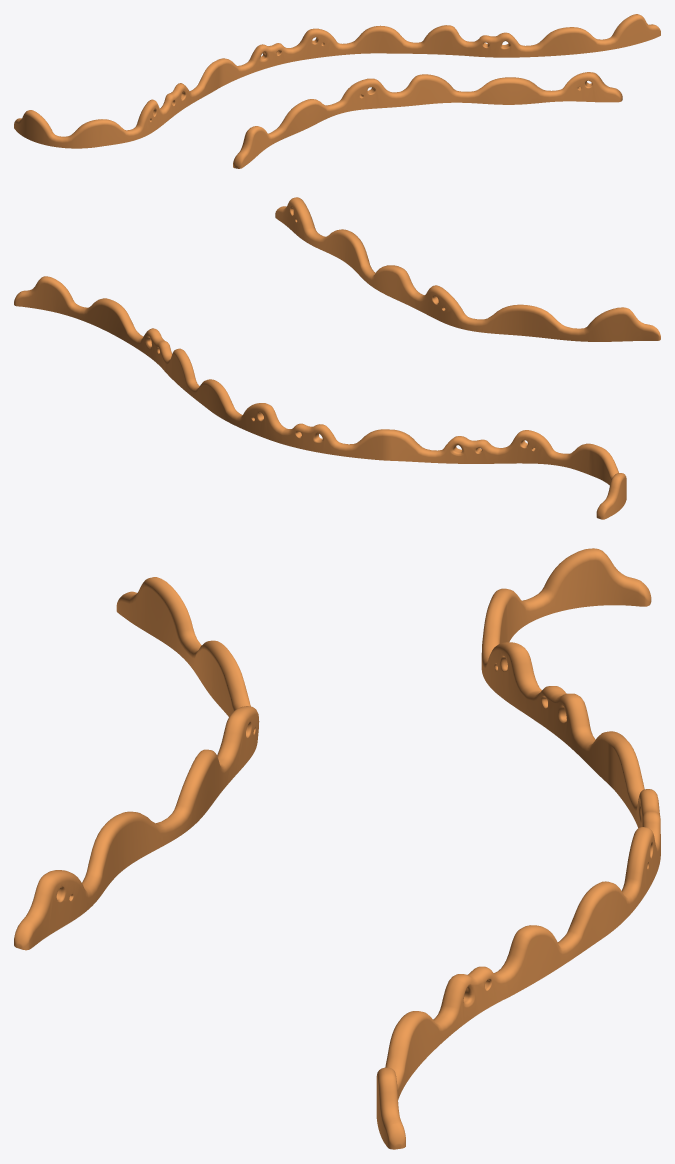
Rendered from b2_walls.fbx.
The picture shows the model from 3 angles, top to bottom: view 1: azimuth 30°, elevation 25°; view 2: azimuth 150°, elevation 25°; view 3: azimuth 270°, elevation 25°; orthographic projection. The views are drawn at different scales.
Visible parts, largest first — view 1: wall_end_017, shopping_pier_wall_07; view 2: wall_end_017, shopping_pier_wall_07; view 3: wall_end_017, shopping_pier_wall_07.
Boxes of the visible parts, <box> form: wall_end_017: <box>14,14,660,148</box>; shopping_pier_wall_07: <box>233,72,622,168</box>; wall_end_017: <box>14,276,626,519</box>; shopping_pier_wall_07: <box>275,197,660,341</box>; wall_end_017: <box>376,548,660,1149</box>; shopping_pier_wall_07: <box>14,577,259,950</box>.
Size of the model in its own units: 7104 by 756 by 3520.
